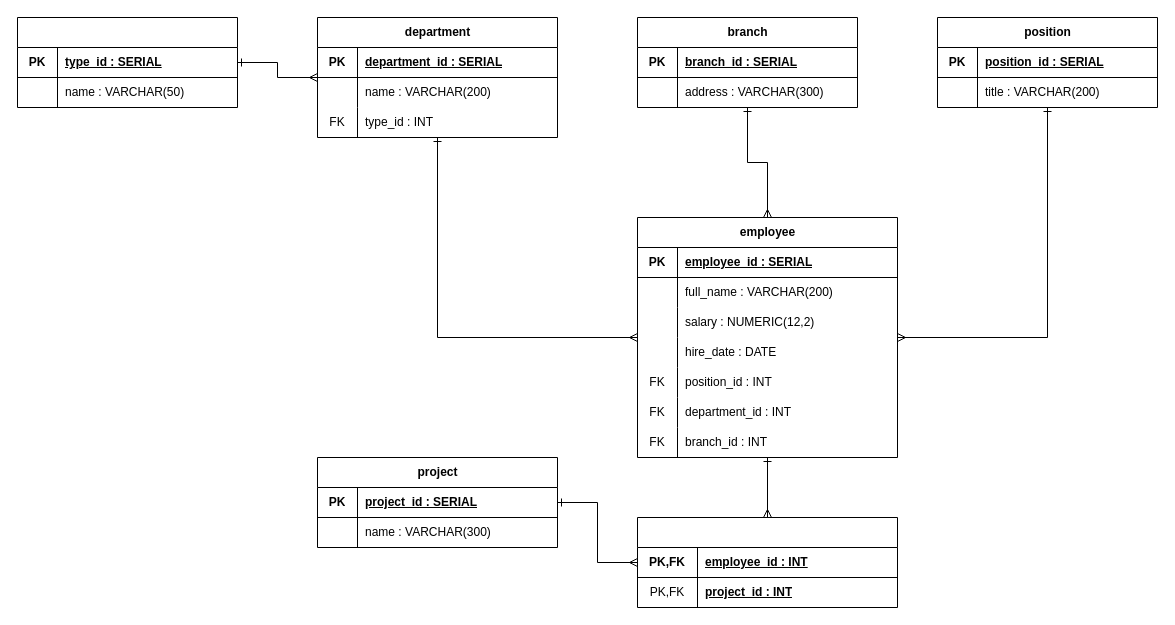
Some shapes in this 1175 by 625 pixel diagram are drawn without their labels. Each missing label, with the box of its shape:
department_type: (16, 16, 238, 108)
employee_project: (636, 516, 898, 608)
